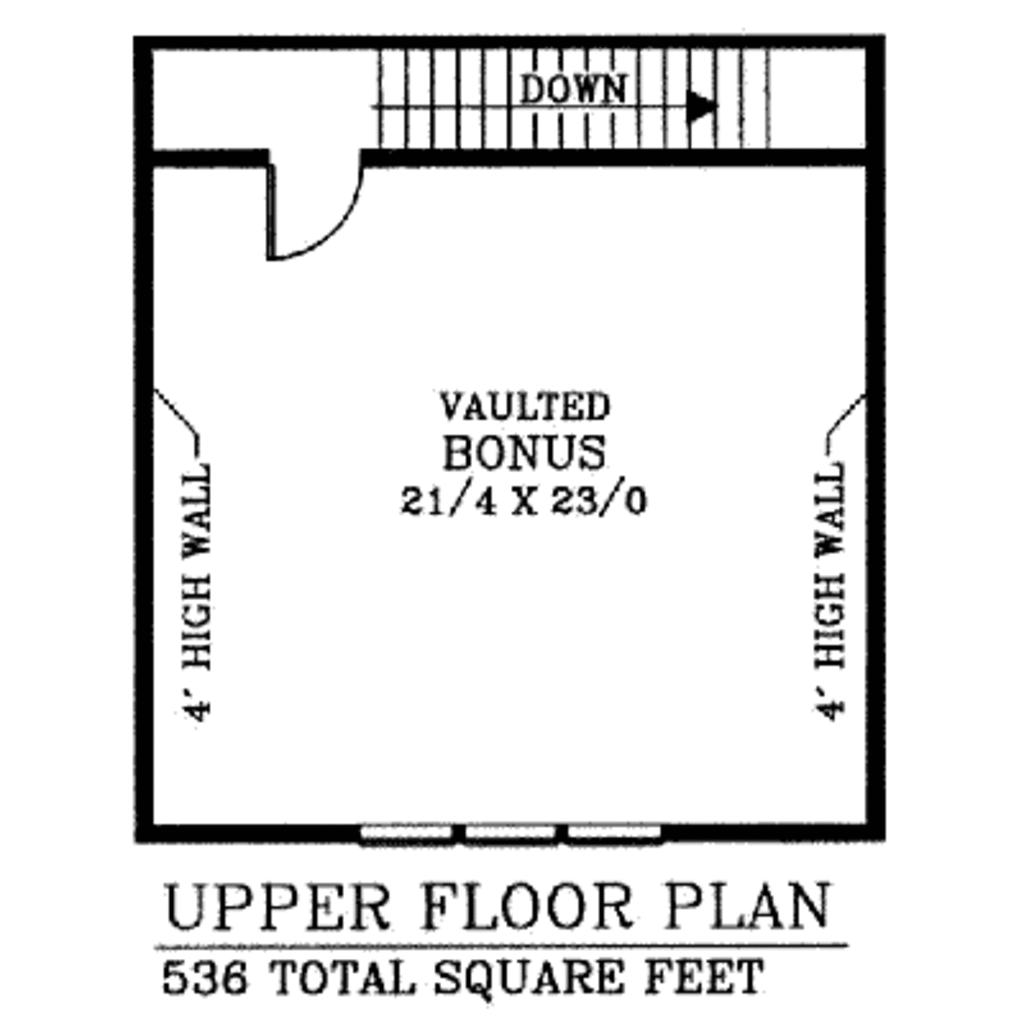door: (269, 155, 370, 263)
stairs: (367, 42, 780, 160)
window: (569, 819, 672, 839), (466, 822, 553, 839), (361, 821, 455, 835)
